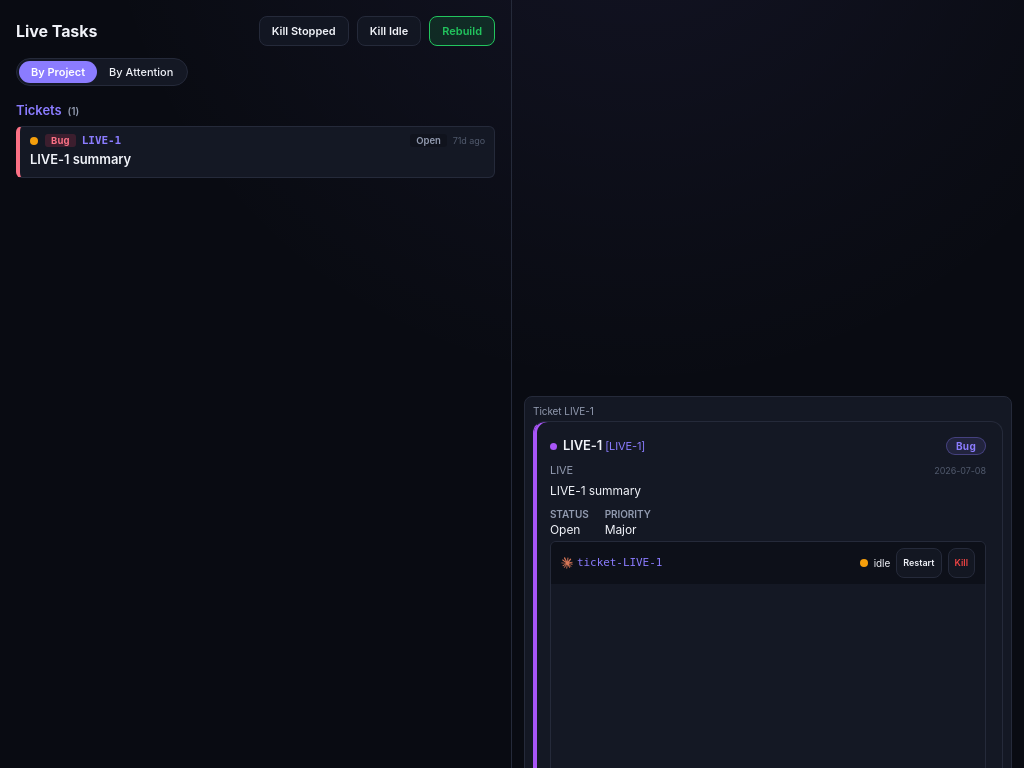
Test: SessionsPage › fetches enriched ticket detail before rendering a selected live ticket card history
The image size is (1024, 768).
Click the element with test id "ticket-row-LIVE-1". click: (256, 152)
box: [16, 126, 495, 178]
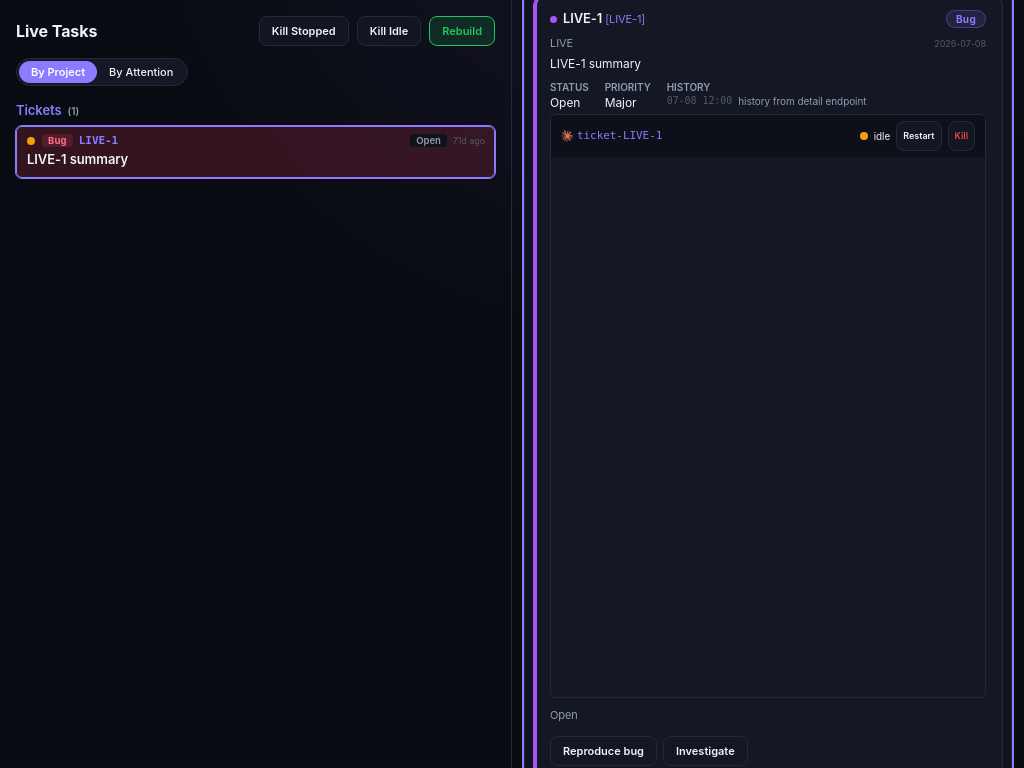
Expected: the text "history from detail endpoint" is shown, [738, 95, 866, 107]
